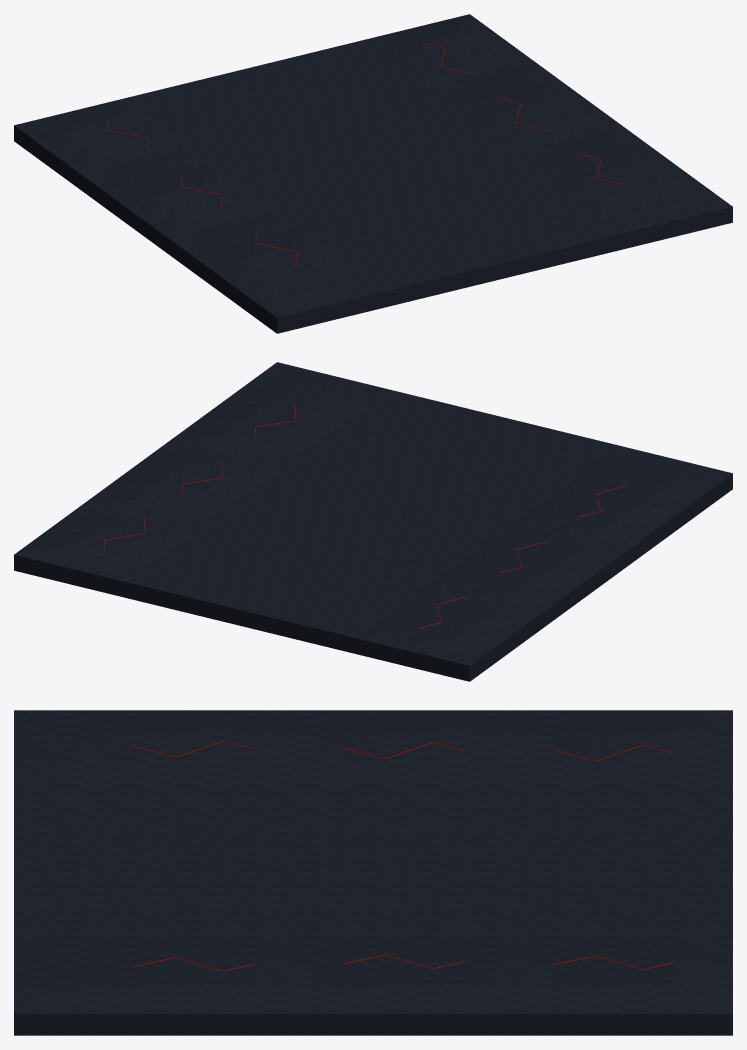
Rendered from VolcanicGround_24m.fbx.
3 views of the same model, one above another, from view 1: azimuth 30°, elevation 25°; view 2: azimuth 150°, elevation 25°; view 3: azimuth 270°, elevation 25° (orthographic). The views are drawn at different scales.
Parts seen in each view (by area): view 1: SM_VolcanicGround_24m; view 2: SM_VolcanicGround_24m; view 3: SM_VolcanicGround_24m.
Part boxes in pixels (<box>): SM_VolcanicGround_24m: <box>14,14,732,333</box>; SM_VolcanicGround_24m: <box>14,362,732,681</box>; SM_VolcanicGround_24m: <box>14,710,732,1035</box>.
Size of the model in its own units: 2400 by 2400 by 104.
1 material, 1 textured.
